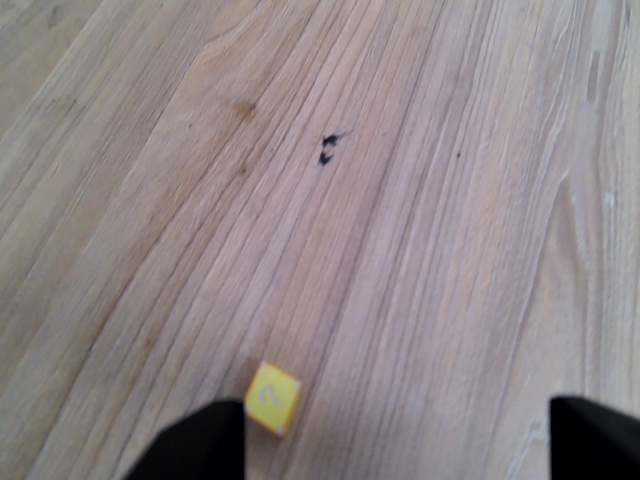lucky: (234, 359, 309, 440)
